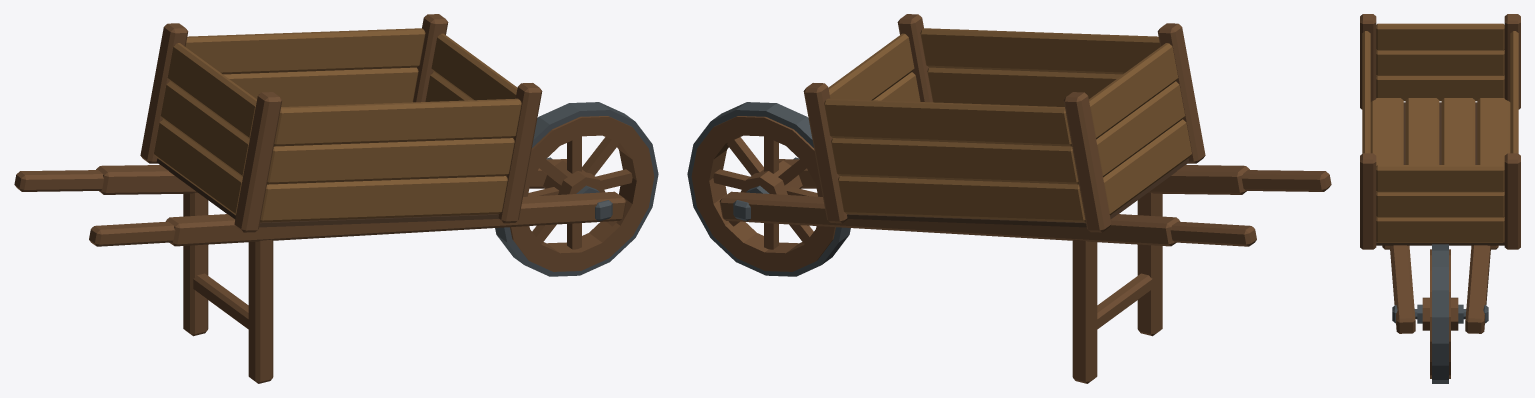
File: mdvl_props_wheelbarrow_01.glb
3 views of the same model, side by side, from view 1: azimuth 30°, elevation 25°; view 2: azimuth 150°, elevation 25°; view 3: azimuth 270°, elevation 25° (orthographic). The views are drawn at different scales.
Visible parts, largest first — view 1: mdvl_props_wheelbarrow_01; view 2: mdvl_props_wheelbarrow_01; view 3: mdvl_props_wheelbarrow_01.
Part boxes in pixels (x1,y1,x2,y2): mdvl_props_wheelbarrow_01: (14,14,658,383); mdvl_props_wheelbarrow_01: (687,14,1331,383); mdvl_props_wheelbarrow_01: (1360,14,1520,383).
Size of the model in its own units: 1.52 by 0.7245 by 0.46.
Materials: 1 (1 with a texture image).
